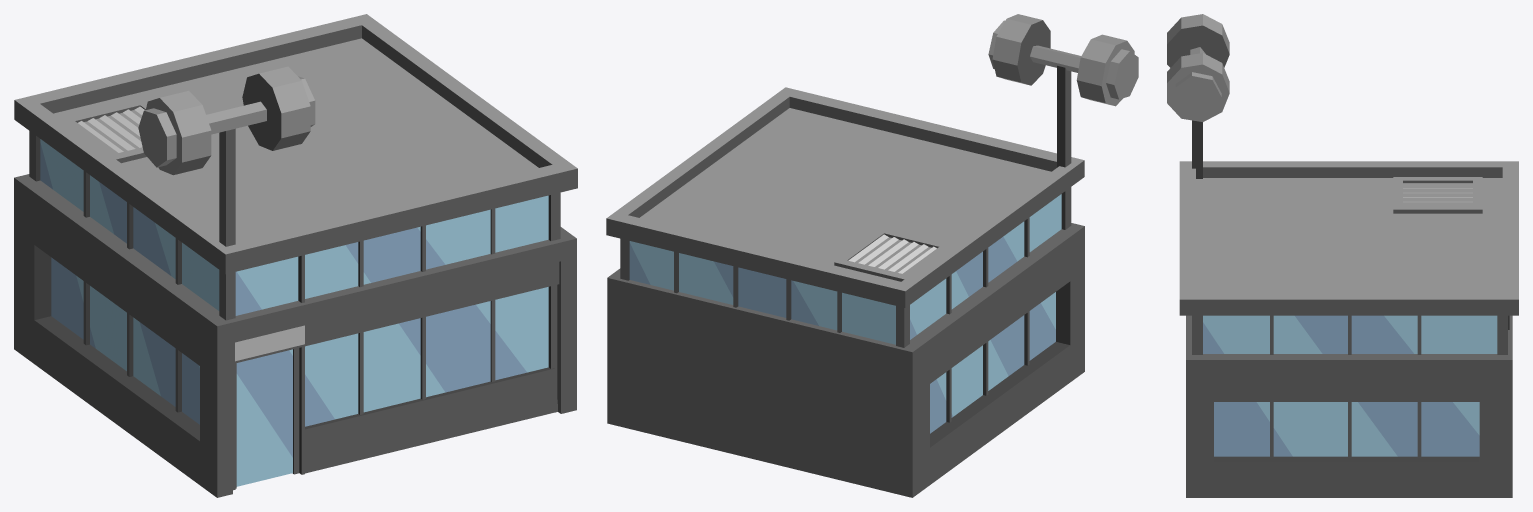
The model's file is services_store_005.fbx.
3 renders of one model, left to right at view 1: azimuth 30°, elevation 25°; view 2: azimuth 150°, elevation 25°; view 3: azimuth 270°, elevation 25°, orthographic. The views are drawn at different scales.
Visible parts, largest first — view 1: services_store_005; view 2: services_store_005; view 3: services_store_005.
Part boxes in pixels (<box>): services_store_005: <box>14,14,577,497</box>; services_store_005: <box>606,14,1138,497</box>; services_store_005: <box>1167,14,1518,497</box>.
Size of the model in its own units: 686 by 640 by 625.
